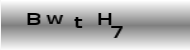7: (109, 24, 123, 39)
B: (26, 11, 41, 26)
H: (96, 11, 113, 26)
t: (73, 16, 84, 28)
w: (46, 13, 63, 25)
